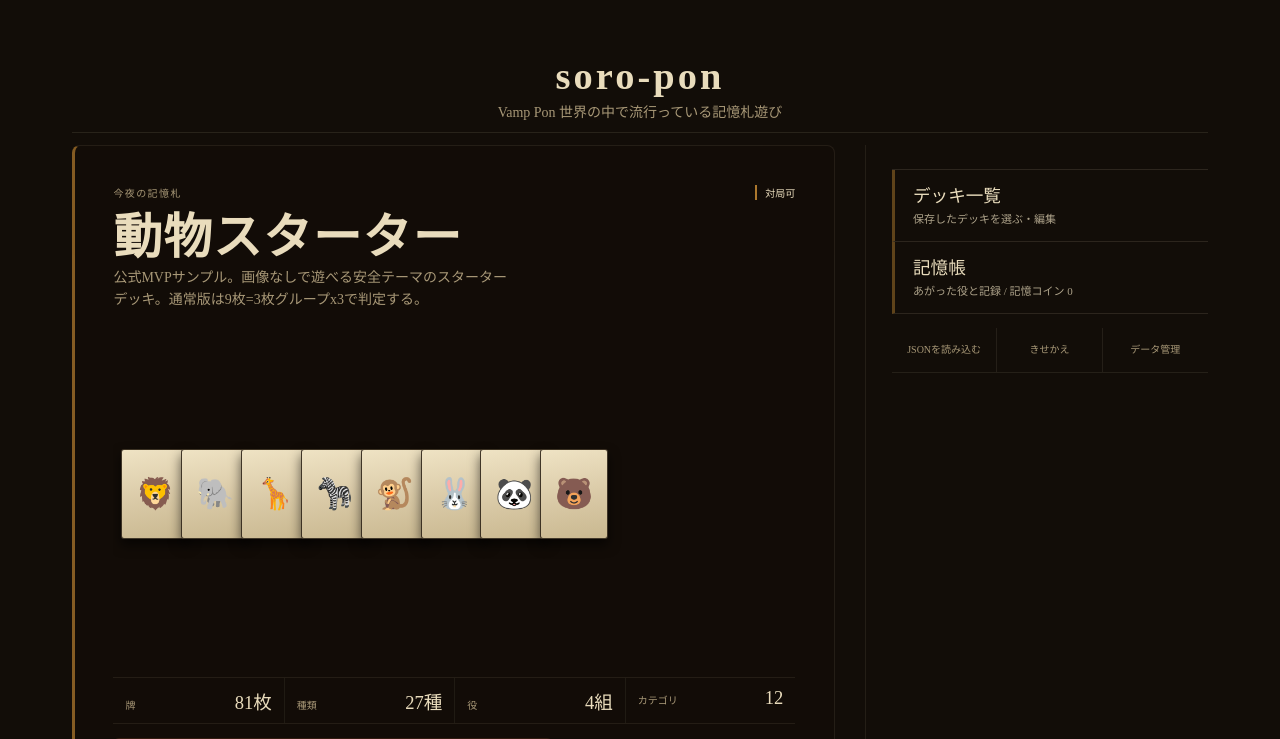
Scenario: TopScreen recovery export › ブラウザがファイル生成を拒否した場合は成功扱いせず退避コピーを残す
Click the button "データ管理" at (1155, 350), box [1103,328,1208,372]
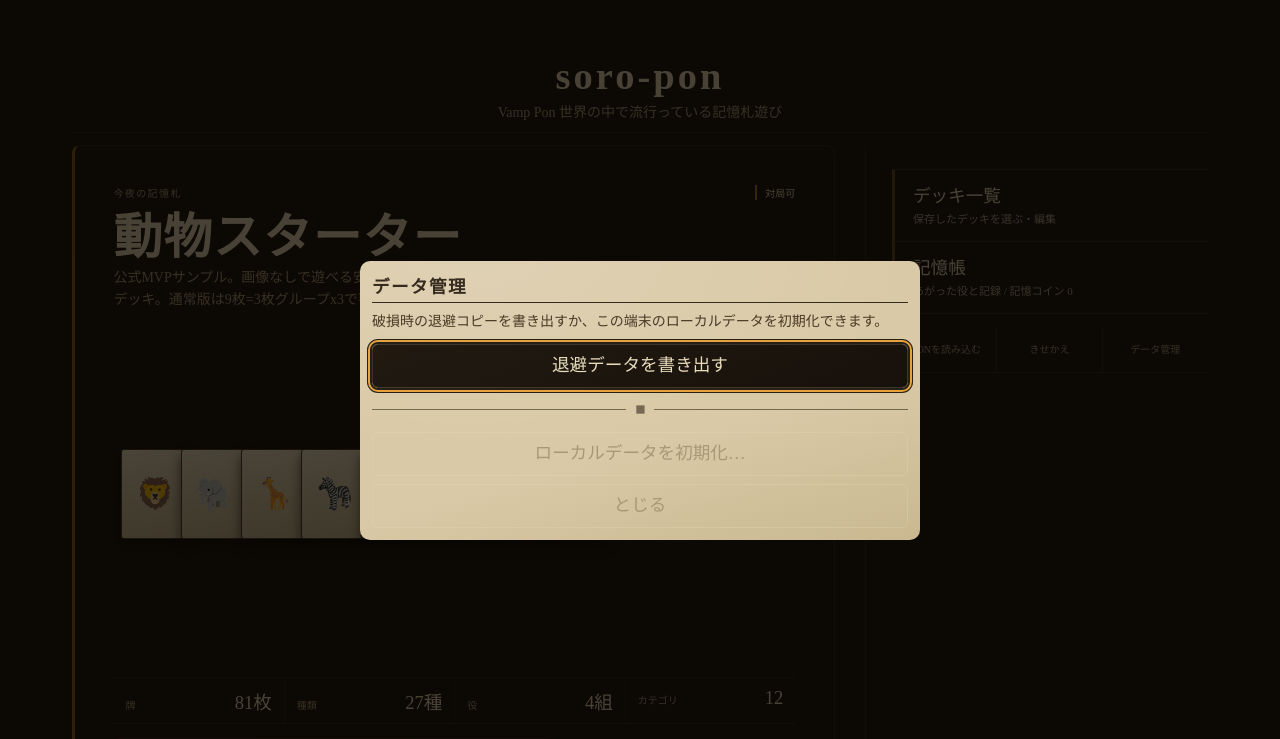
Expected: the dialog "データ管理" is shown, [360,260,920,540]
Click the button "退避データを書き出す" at (640, 366), box [372,344,908,388]
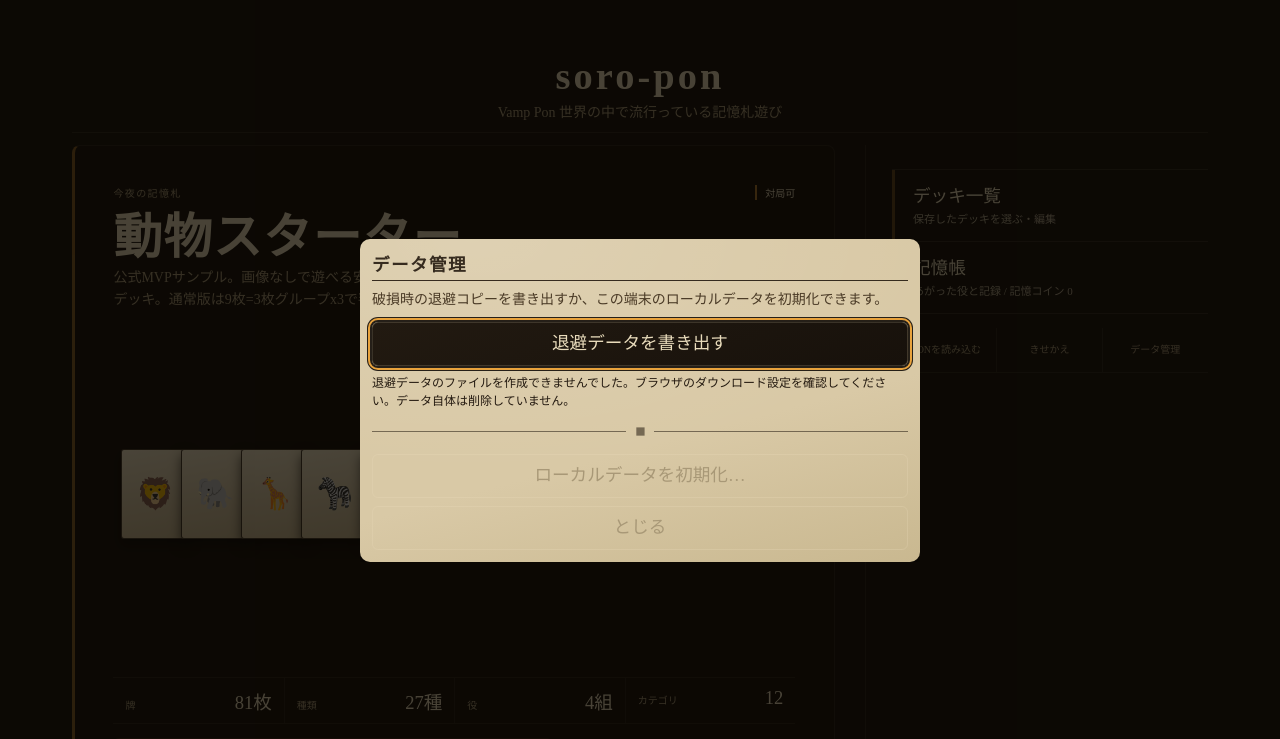
Expected: the message shows "ファイルを作成できませんでした", [372,376,886,408]
